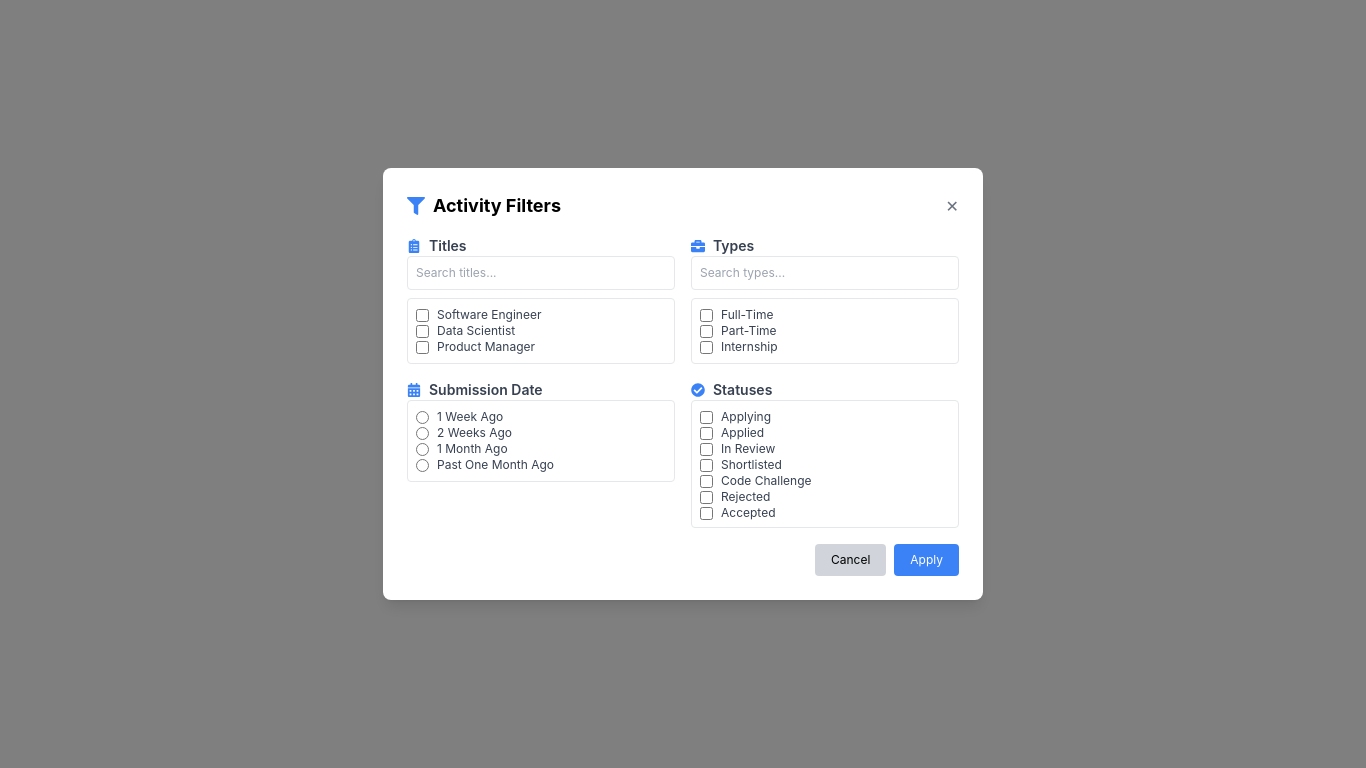
Test: ActivityFilter Component › filters titles based on search input
Expected: the text "Software Engineer" is shown, [416,307,542,322]
Type "Software" into the field with placeholder "Search titles...". click: [541, 273]
box: [407,256,675,290]
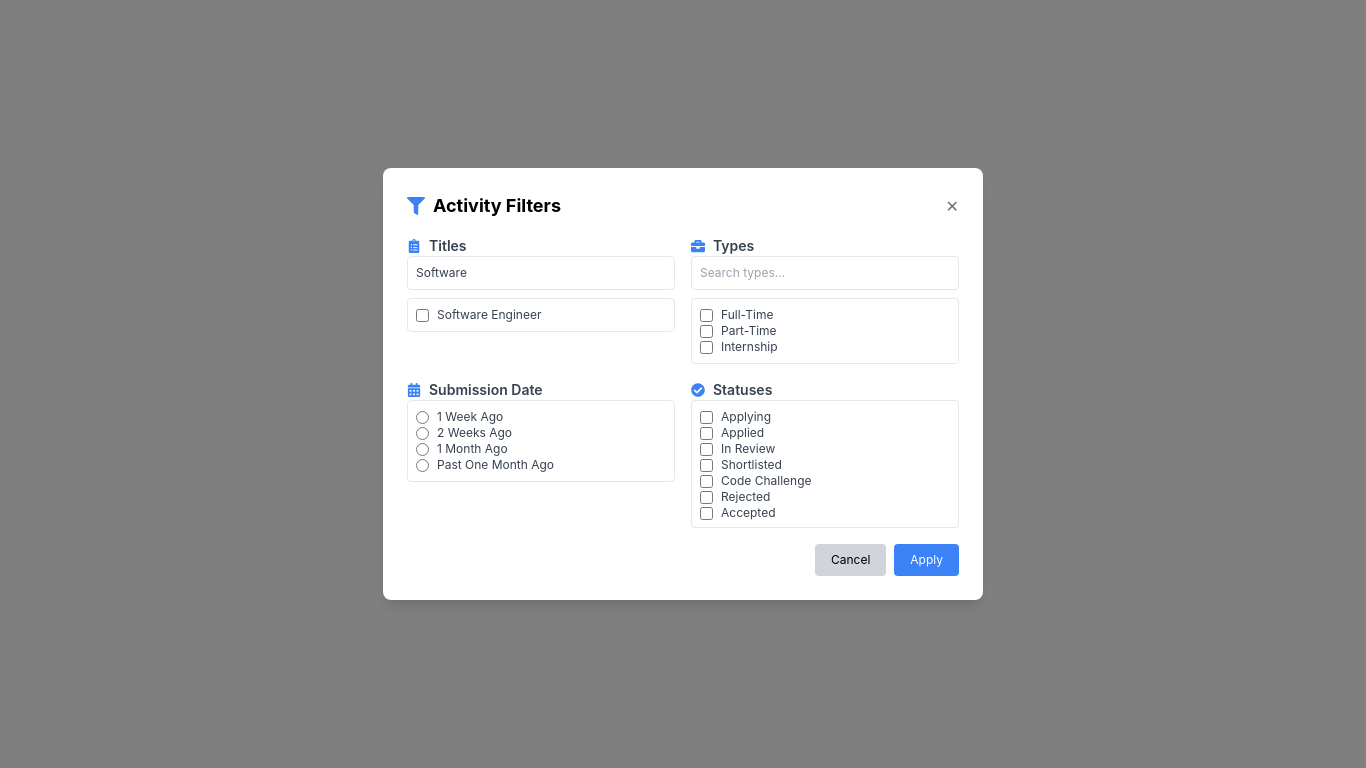
Expected: the text "Software Engineer" is shown, [416,307,542,322]
Now the text "Data Scientist" is gone
Now the text "Product Manager" is gone
